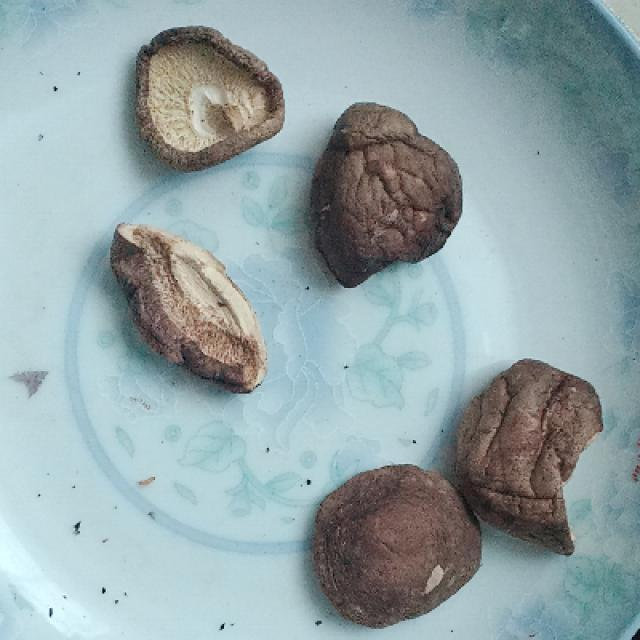Lentinus edodes: (463, 360, 603, 556), (314, 466, 480, 627), (320, 103, 464, 287), (115, 222, 264, 385), (133, 26, 286, 165)
